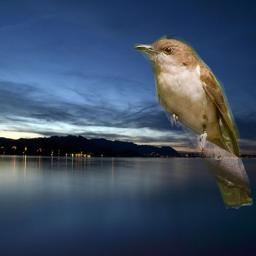Cuckoo: (132, 35, 253, 209)
